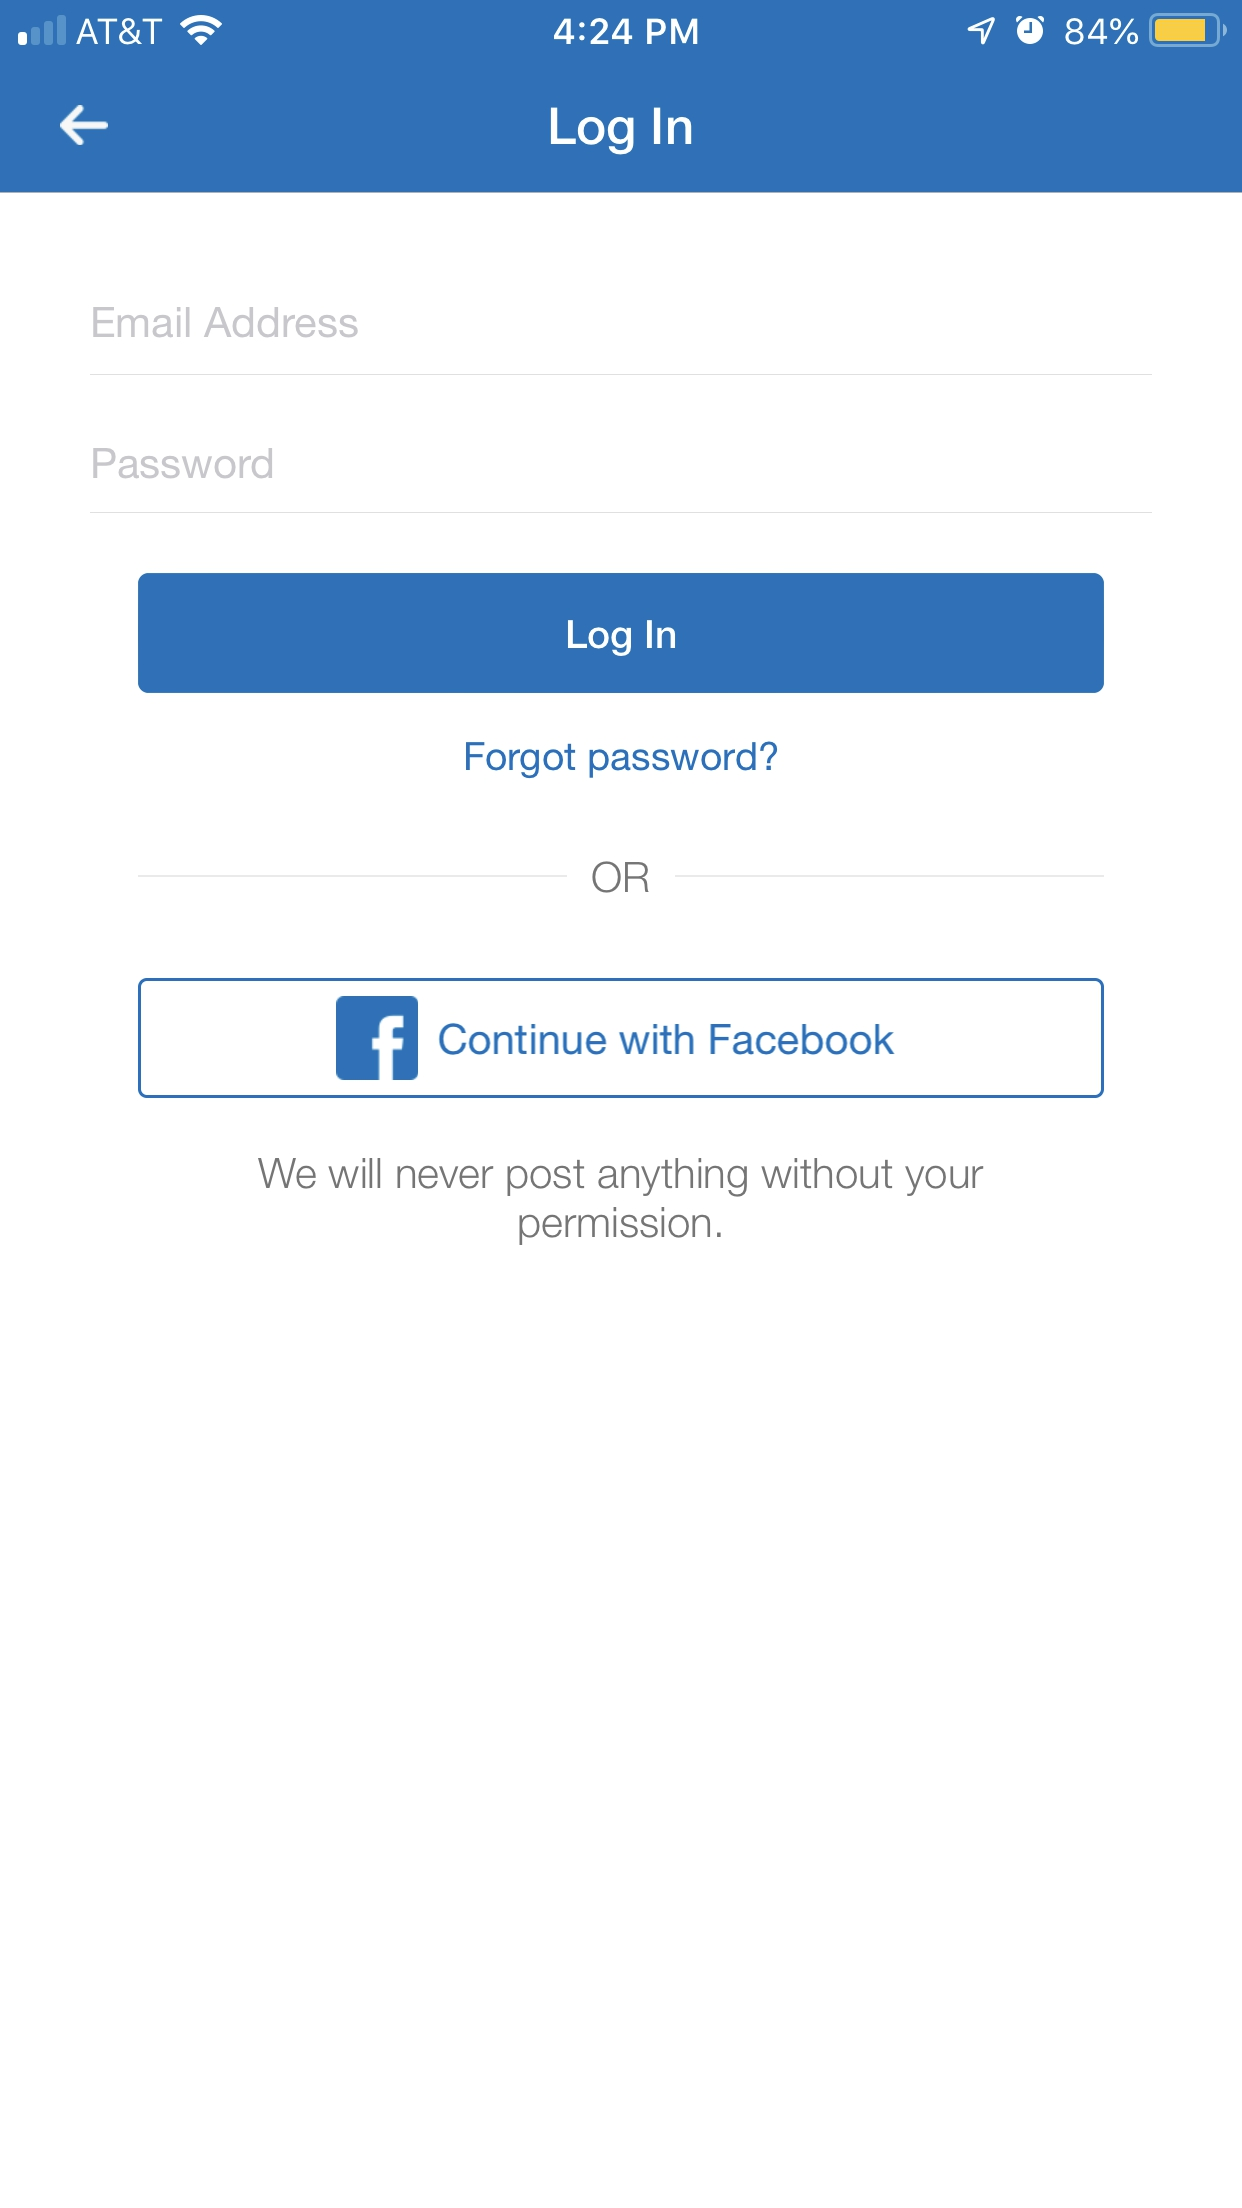EditText: (91, 306, 1153, 378), (89, 447, 1153, 516)
Icon: (61, 105, 111, 147)
Text: (256, 1159, 984, 1247), (466, 740, 778, 779), (93, 306, 359, 340), (550, 108, 695, 156), (94, 447, 274, 481), (591, 861, 651, 895)
TextButton: (140, 978, 1106, 1099), (138, 573, 1104, 695)
UpperTaskBar: (2, 2, 1242, 49)
